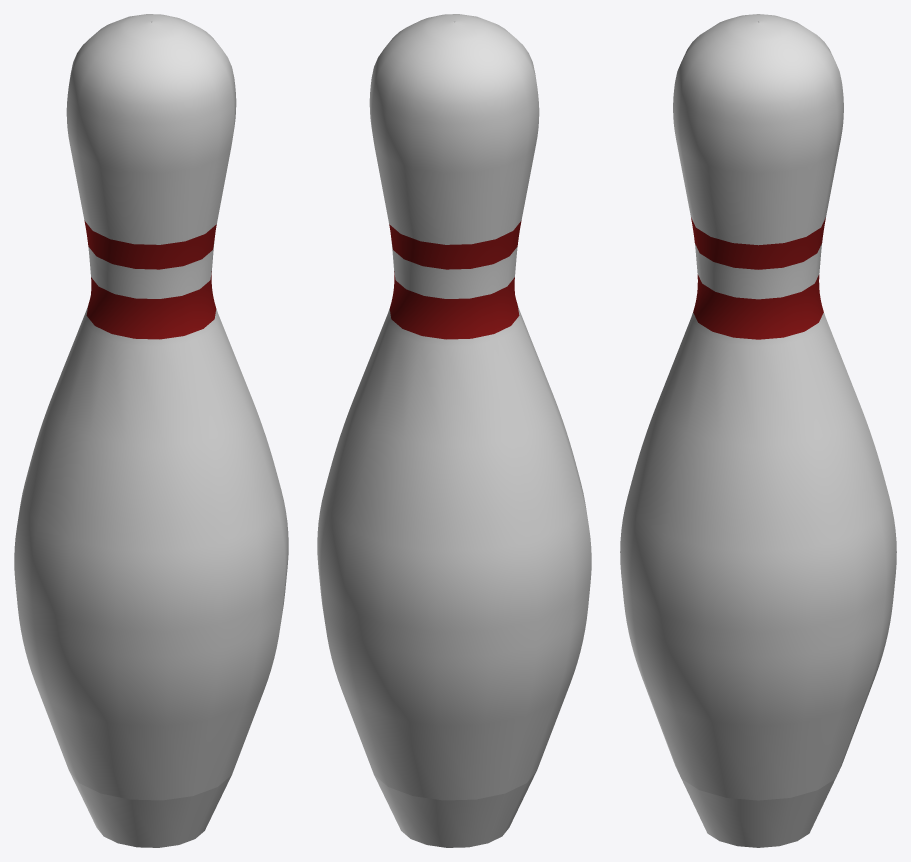
File: BowlingPin.FBX
3 renders of one model, left to right at view 1: azimuth 30°, elevation 25°; view 2: azimuth 150°, elevation 25°; view 3: azimuth 270°, elevation 25°, orthographic.
Visible parts, largest first — view 1: Line001; view 2: Line001; view 3: Line001.
Boxes of the visible parts, <box> form: Line001: <box>14,14,288,847</box>; Line001: <box>317,14,591,847</box>; Line001: <box>620,14,896,847</box>.
Bounding box in the file's own units: 20.44 × 65.59 × 20.44.
